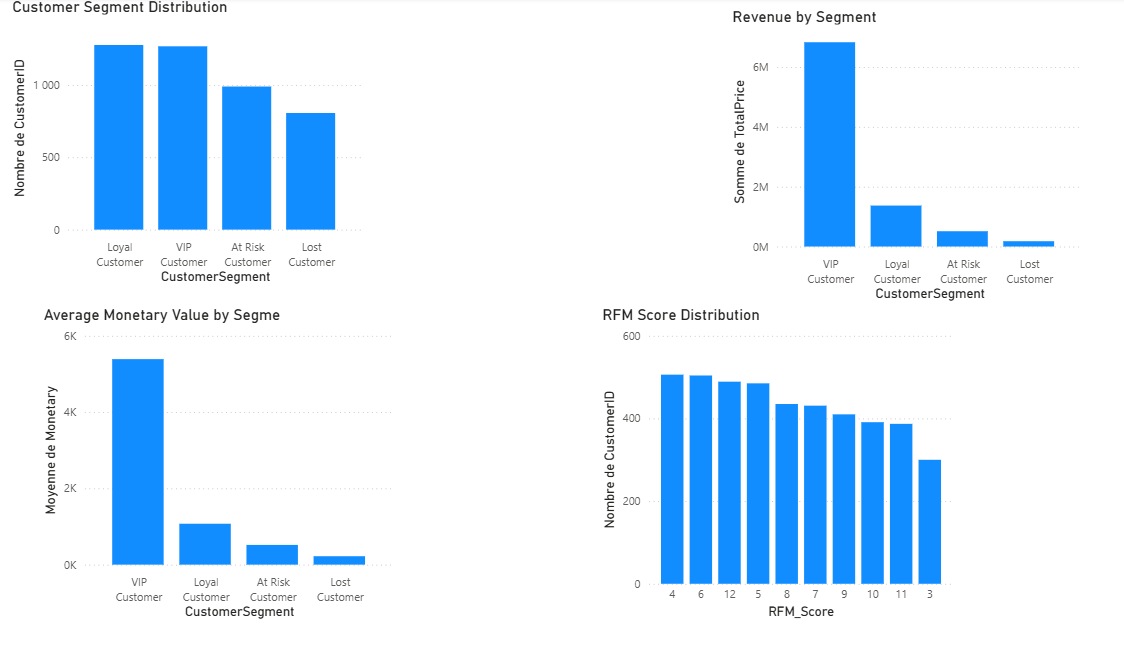

What the dashboard file says about the page in this screenshot:
{"tool":"powerbi","page":{"name":"Customer_Segmentation","canvas":[1280,720],"ordinal":1},"visuals":[{"type":"clusteredColumnChart","title":"Customer Segment Distribution","fields":{"Category":["dim_customer.CustomerSegment"],"Y":["CountNonNull(dim_customer.CustomerID)"]},"box":[10.6,0,394.8,320.4],"z":0},{"type":"clusteredColumnChart","title":"Revenue by Segment","fields":{"Category":["dim_customer.CustomerSegment"],"Y":["Sum(fact_sales.TotalPrice)"]},"box":[801.7,10.6,394.8,328],"z":1000},{"type":"clusteredColumnChart","title":"Average Monetary Value by Segme","fields":{"Category":["dim_customer.CustomerSegment"],"Y":["Avg(dim_customer.Monetary)"]},"box":[45.6,338.6,394.8,349.2],"z":2000},{"type":"clusteredColumnChart","title":"RFM Score Distribution","fields":{"Category":["dim_customer.RFM_Score"],"Y":["Count(dim_customer.CustomerID)"]},"box":[659,338.6,394.8,349.2],"z":3000}]}

Visuals, with their boxes in screenshot pixels (x1, y1, x2, y2), scaled from the page's 1280x720 canvas onto the 1124x646 screenshot:
"Customer Segment Distribution" clusteredColumnChart: {"left": 9, "top": 0, "right": 356, "bottom": 287}
"Revenue by Segment" clusteredColumnChart: {"left": 704, "top": 10, "right": 1051, "bottom": 304}
"Average Monetary Value by Segme" clusteredColumnChart: {"left": 40, "top": 304, "right": 387, "bottom": 617}
"RFM Score Distribution" clusteredColumnChart: {"left": 579, "top": 304, "right": 925, "bottom": 617}
